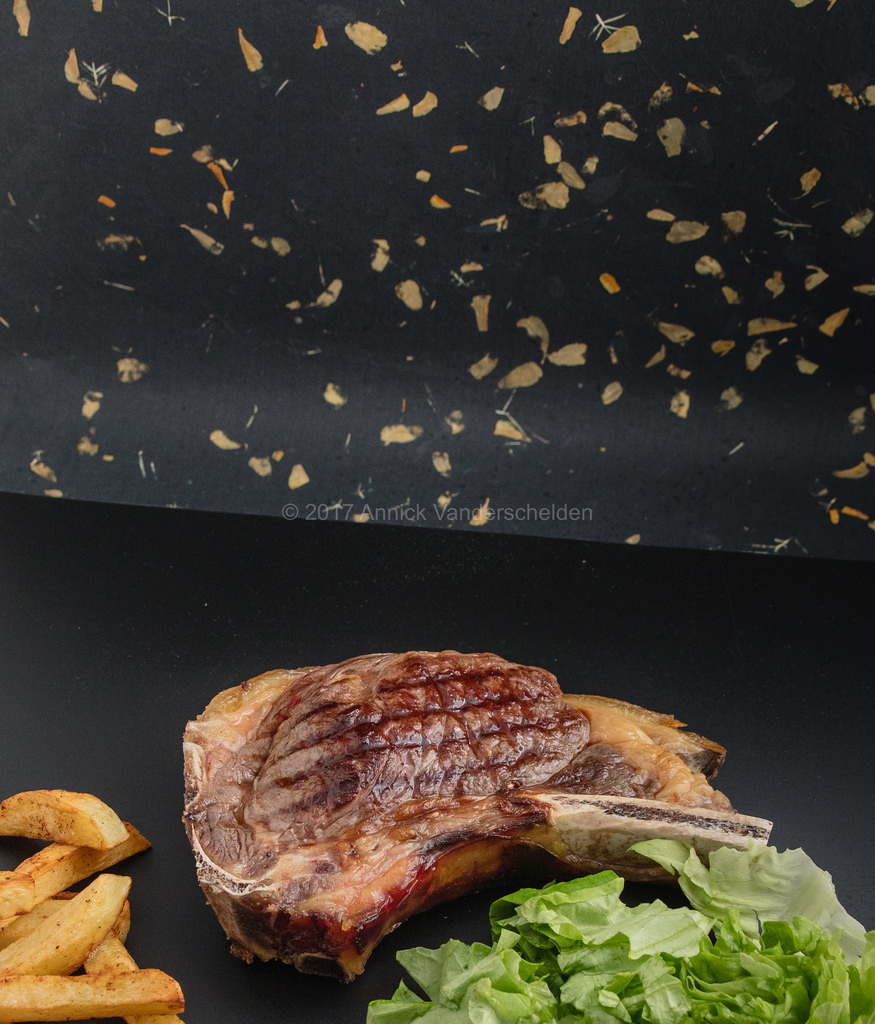chopped lettuce: (410, 874, 874, 1024)
